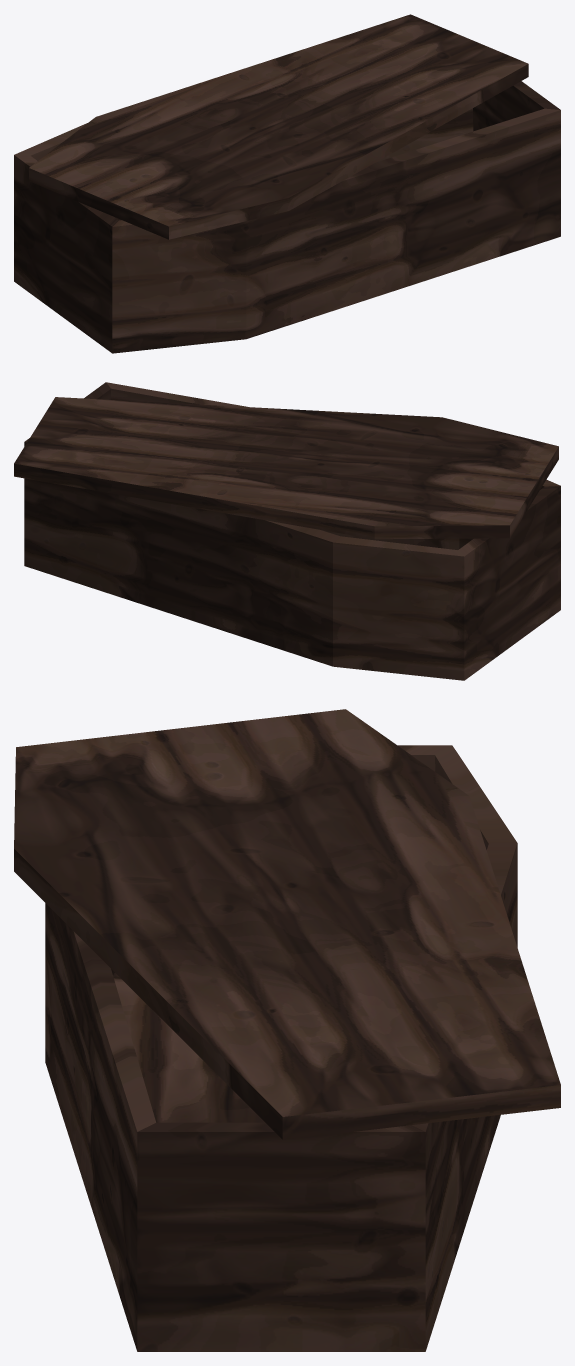
The model's file is coffin1_FBX.fbx.
The picture shows the model from 3 angles, top to bottom: view 1: azimuth 30°, elevation 25°; view 2: azimuth 150°, elevation 25°; view 3: azimuth 270°, elevation 25°; orthographic projection. The views are drawn at different scales.
Visible parts, largest first — view 1: Cube, Cube.001; view 2: Cube, Cube.001; view 3: Cube.001, Cube.
Part boxes in pixels (x1,y1,x2,y2): Cube: [14, 81, 560, 353]; Cube.001: [29, 14, 528, 239]; Cube: [24, 382, 560, 680]; Cube.001: [14, 397, 558, 539]; Cube.001: [14, 709, 560, 1139]; Cube: [45, 745, 517, 1351].
Size of the model in its own units: 201 by 55.67 by 114.
2 materials, 2 textured.
